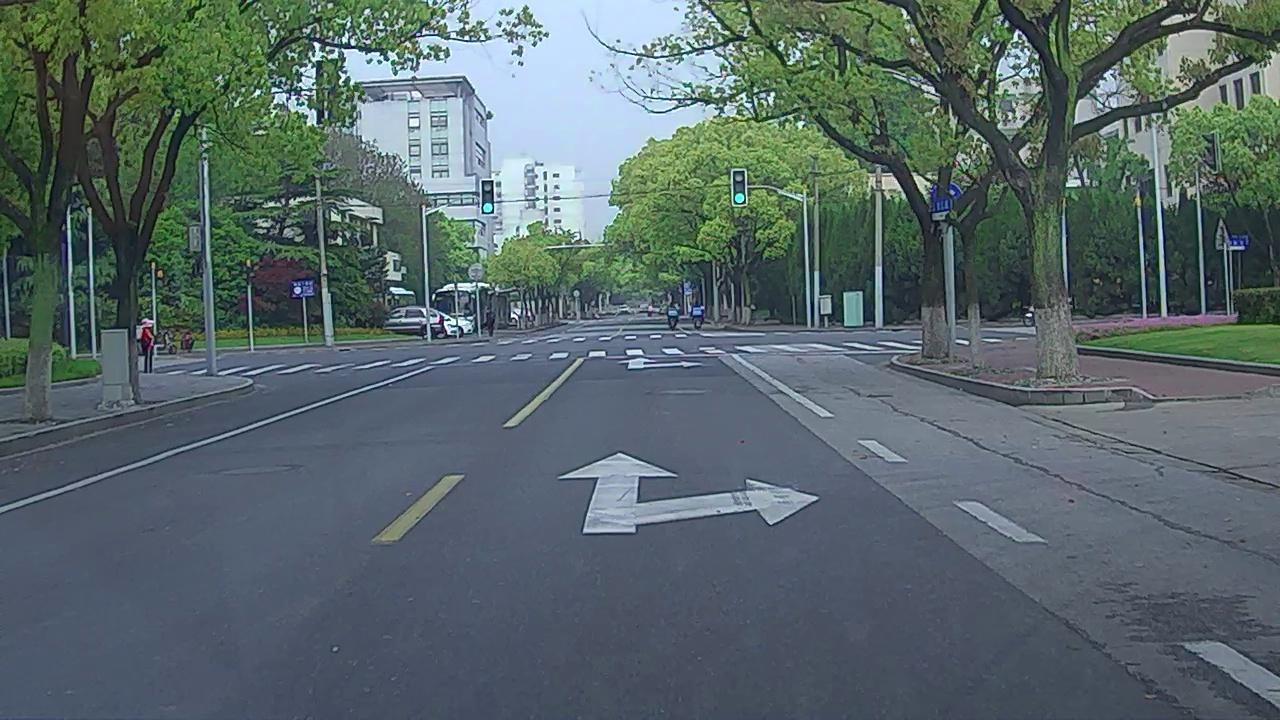traffic_light: (733, 170, 746, 205), (482, 179, 494, 214)
